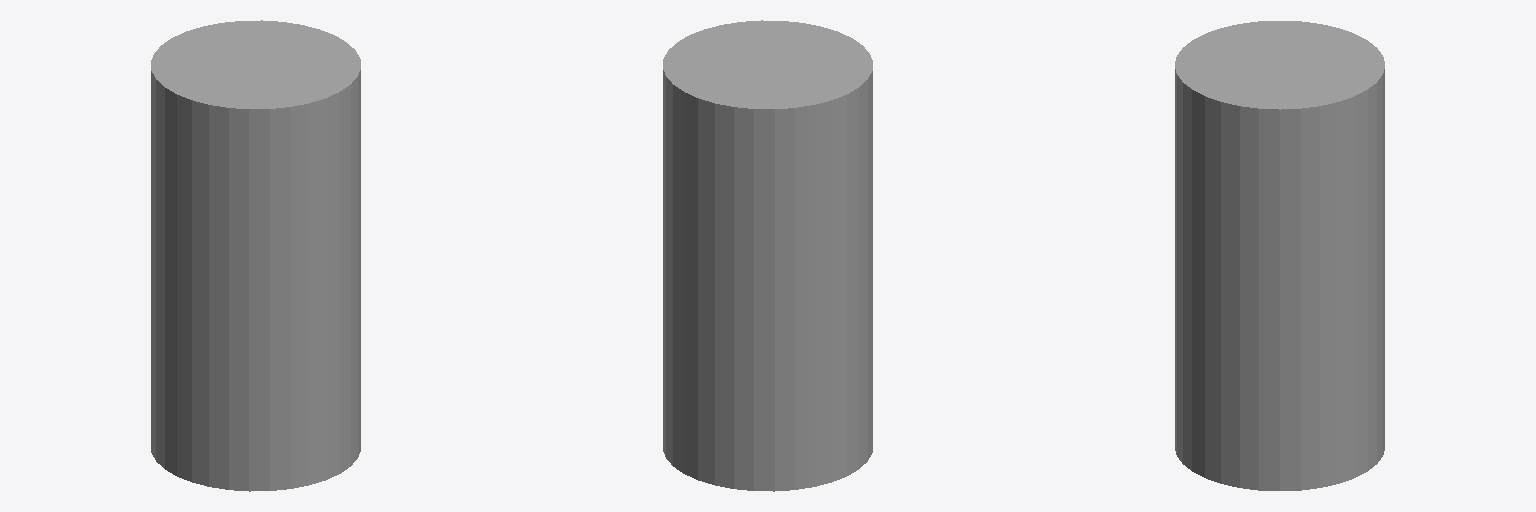
The robot description file, URDF, robot "cylinder":
<?xml version="1.0"?>
<robot name="cylinder">
  <material name="wallmat">
    <color rgba="0.7 0.7 0.7 1"/>
  </material>

  <link name="wall_link">
    <inertial>
      <origin rpy="0 0 0" xyz="0 0 0"/>
      <mass value="0"/>
      <inertia ixx="0" ixy="0" ixz="0" iyy="0" iyz="0" izz="0"/>
    </inertial>
    <visual>
      <origin rpy="0 0 0" xyz="0.00 0.00 2.00"/>
      <geometry>
        <cylinder length="4.00" radius="1.00"/>
      </geometry>
      <material name="wallmat"/>
    </visual>
    <collision>
      <origin rpy="0 0 0" xyz="0.00 0.00 2.00"/>
      <geometry>
        <cylinder length="4.00" radius="1.00"/>
      </geometry>
    </collision>
  </link>

</robot>

--- What the picture shows (computed from the rendered views, not written in the file) ---
The picture shows the robot from 3 angles, left to right: view 1: azimuth 30°, elevation 25°; view 2: azimuth 150°, elevation 25°; view 3: azimuth 270°, elevation 25°; orthographic projection.
Robot: cylinder — 1 links, 0 joints (none); root link wall_link; default pose: every joint at zero.
Links seen in each view (by area): view 1: wall_link; view 2: wall_link; view 3: wall_link.
Link boxes in pixels (box(x1,y1,x2,y2)): wall_link: box(151, 20, 360, 491); wall_link: box(663, 20, 872, 491); wall_link: box(1175, 21, 1384, 490).
Bounding box of the posed robot: 2 × 2 × 4 m (x, y, z).
Geometry: primitives only (box / cylinder / sphere), no mesh files.